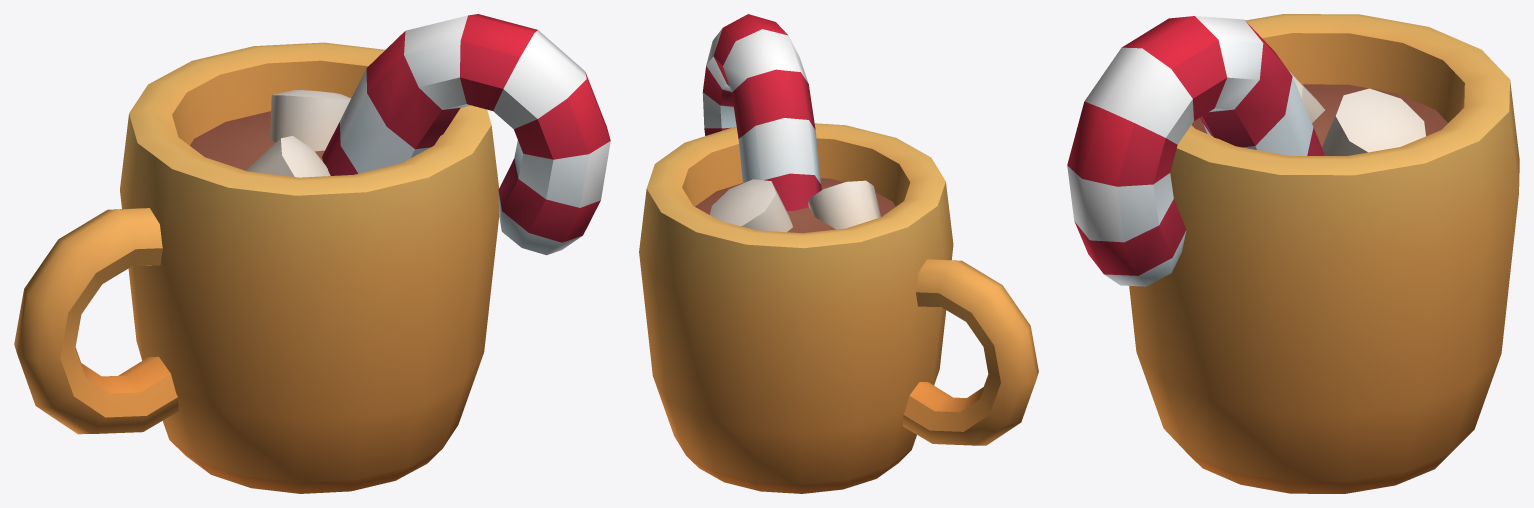
The model's file is hot_chocolate_decorated.fbx.
3 views of the same model, side by side, from view 1: azimuth 30°, elevation 25°; view 2: azimuth 150°, elevation 25°; view 3: azimuth 270°, elevation 25° (orthographic). The views are drawn at different scales.
Visible parts, largest first — view 1: hot_chocolate_decorated; view 2: hot_chocolate_decorated; view 3: hot_chocolate_decorated.
Part boxes in pixels (left/top/right/bottom): hot_chocolate_decorated: left=14, top=14, right=610, bottom=493; hot_chocolate_decorated: left=639, top=14, right=1038, bottom=493; hot_chocolate_decorated: left=1067, top=14, right=1519, bottom=493.
Size of the model in its own units: 67.73 by 57.89 by 50.34.
